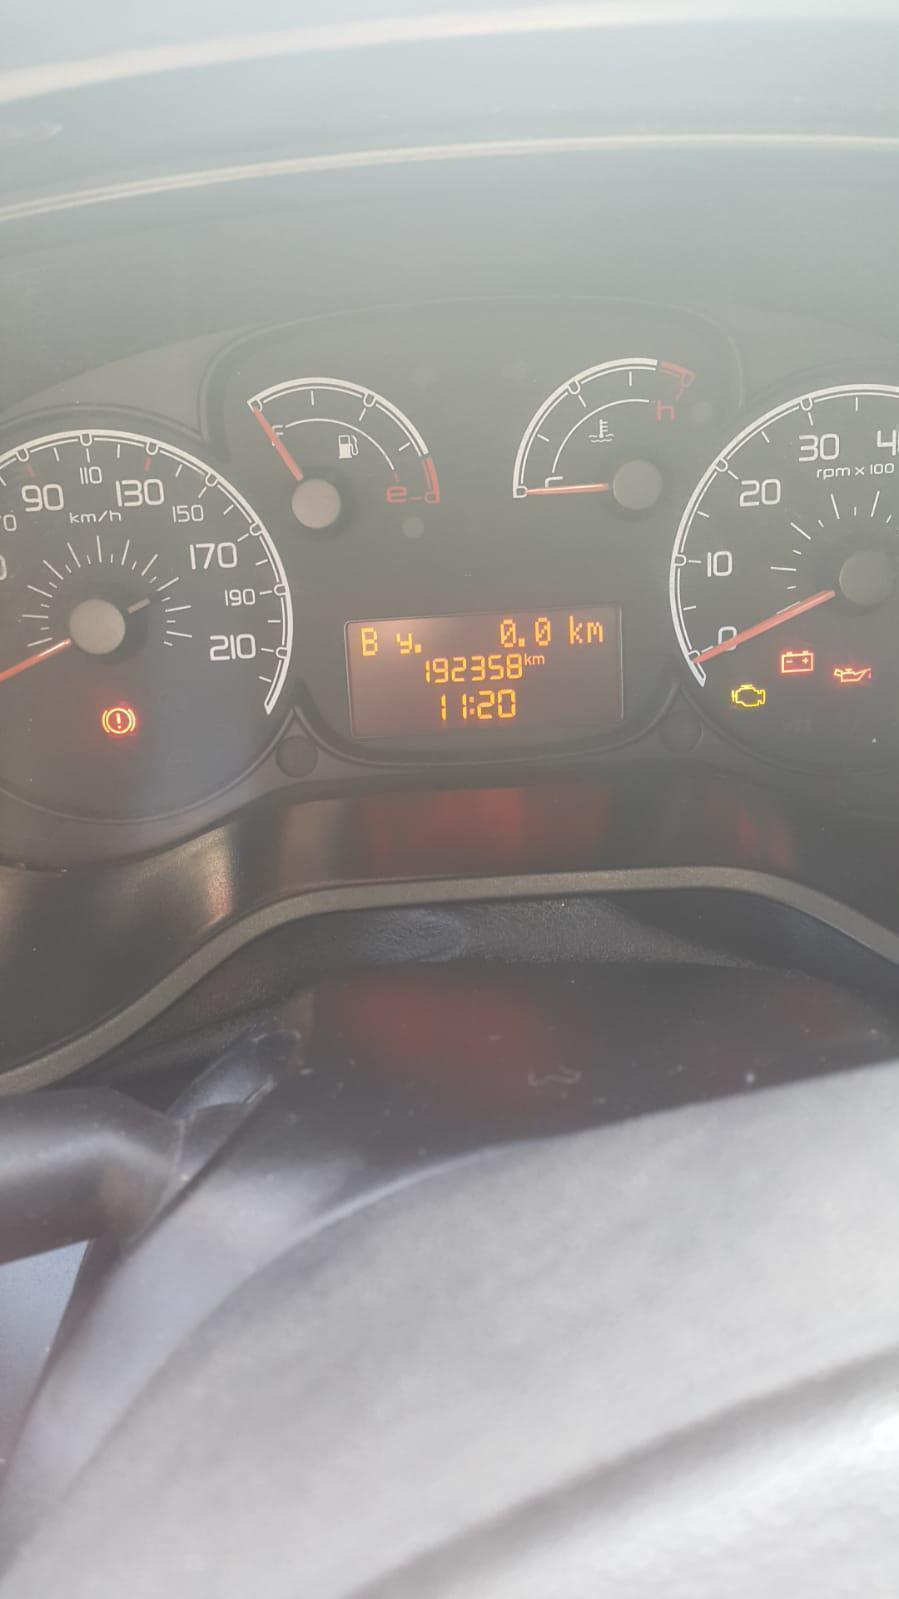,: (412, 641, 423, 656), (516, 634, 526, 649)
0: (495, 687, 518, 720), (532, 614, 553, 647), (497, 617, 515, 650)
1: (435, 690, 450, 722), (456, 690, 467, 722), (420, 658, 431, 684)
2: (476, 687, 495, 722), (450, 655, 467, 684)
3: (468, 653, 486, 682)
5: (487, 653, 504, 681)
8: (505, 652, 522, 681)
9: (431, 655, 449, 684)
X: (358, 624, 380, 659), (564, 613, 584, 647), (585, 618, 605, 645), (393, 630, 412, 656), (531, 653, 546, 667), (468, 694, 475, 716), (522, 650, 531, 667)
odometer: (341, 599, 627, 742)
